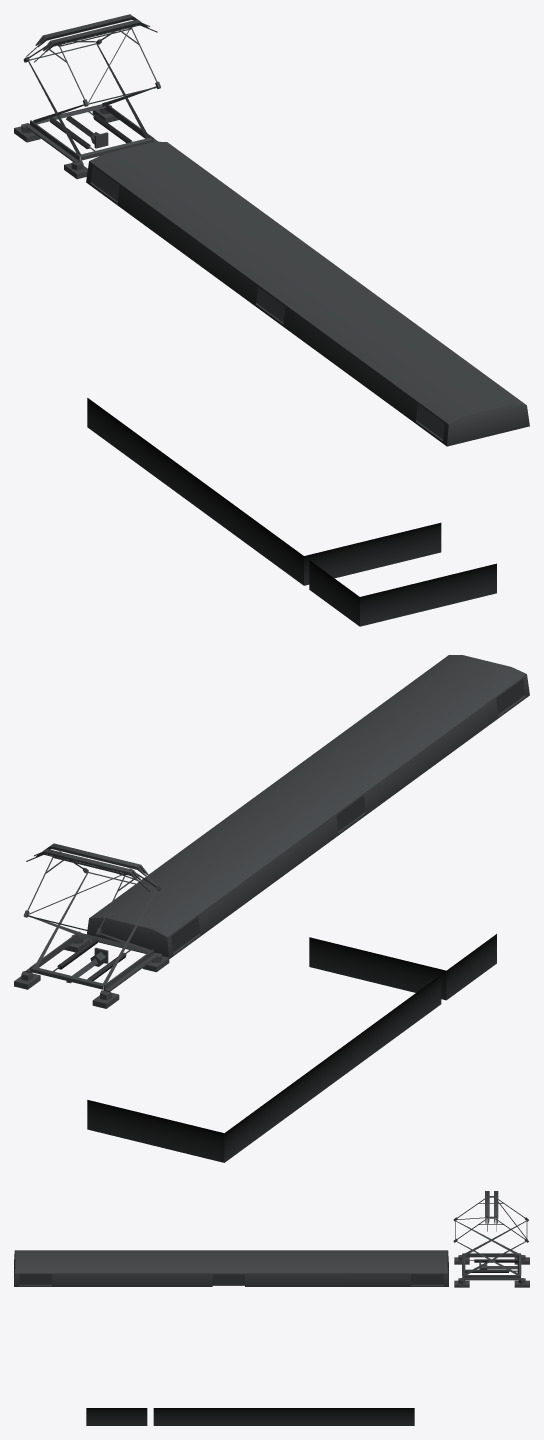
Rendered from UV_PANTA01.glb.
3 renders of one model, top to bottom at view 1: azimuth 30°, elevation 25°; view 2: azimuth 150°, elevation 25°; view 3: azimuth 270°, elevation 25°, orthographic. The views are drawn at different scales.
Visible parts, largest first — view 1: PANTA; view 2: PANTA; view 3: PANTA.
Boxes of the visible parts, <box> form: PANTA: <box>14,14,529,626</box>; PANTA: <box>14,655,529,1162</box>; PANTA: <box>14,1191,529,1425</box>.
Bounding box in the file's own units: 4.96 × 11.57 × 26.81.
1 material, 1 textured.
